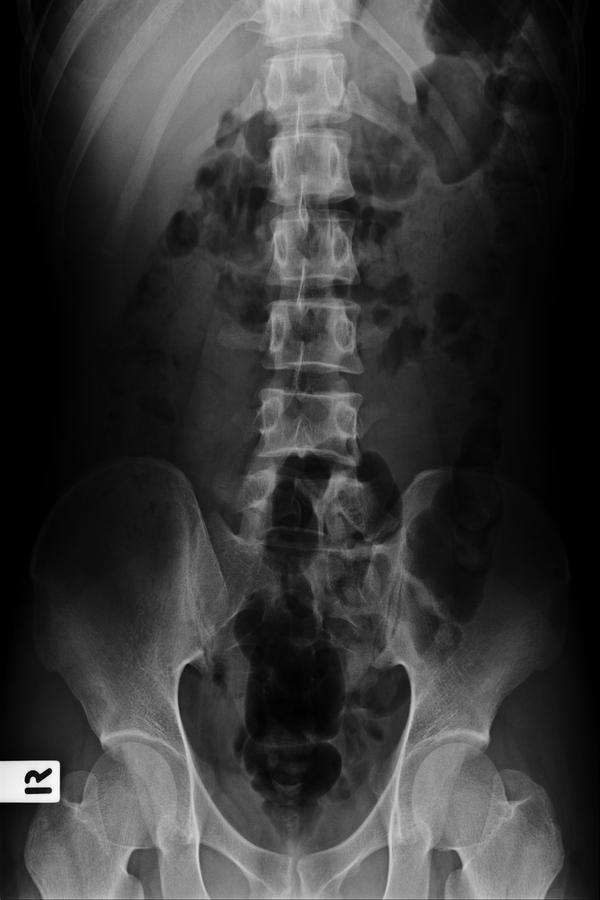lumbar scoliosis: (234, 8, 384, 596)
